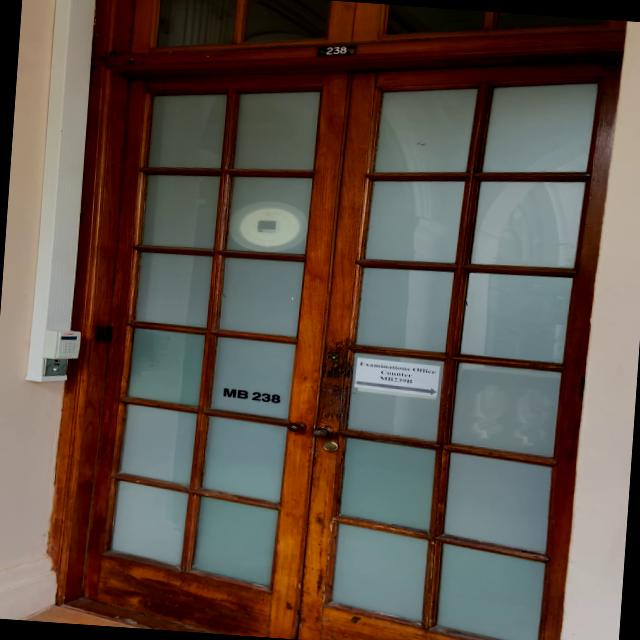room238: (314, 41, 354, 59)
